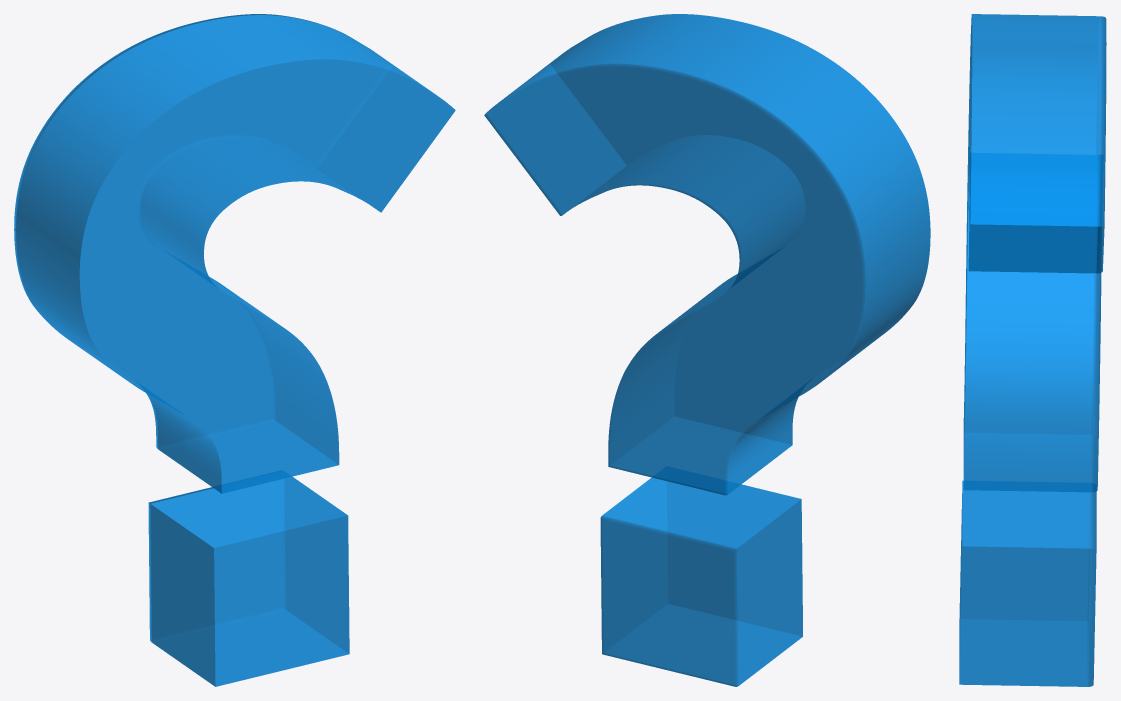
Rendered from questionMark.glb.
3 views of the same model, side by side, from view 1: azimuth 30°, elevation 25°; view 2: azimuth 150°, elevation 25°; view 3: azimuth 270°, elevation 25° (orthographic).
Visible parts, largest first — view 1: Object_2; view 2: Object_2; view 3: Object_2.
Boxes of the visible parts, bbox=[...] form: Object_2: bbox=[14, 14, 455, 686]; Object_2: bbox=[484, 14, 930, 686]; Object_2: bbox=[959, 14, 1106, 686].
Size of the model in its own units: 373 by 571 by 125.
